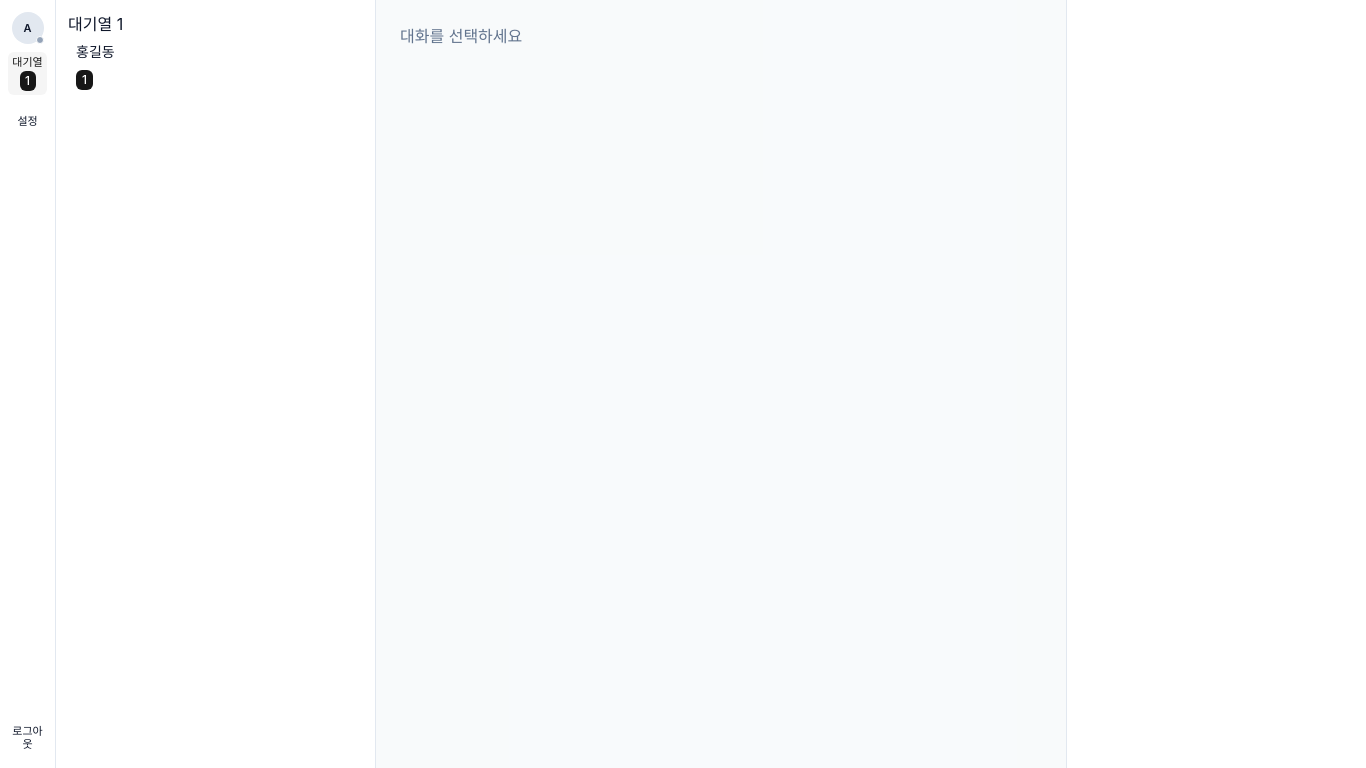
administrator creates a shared macro in catalog settings
The width and height of the screenshot is (1366, 768).
Click the button "설정": [28, 121] box [8, 103, 47, 139]
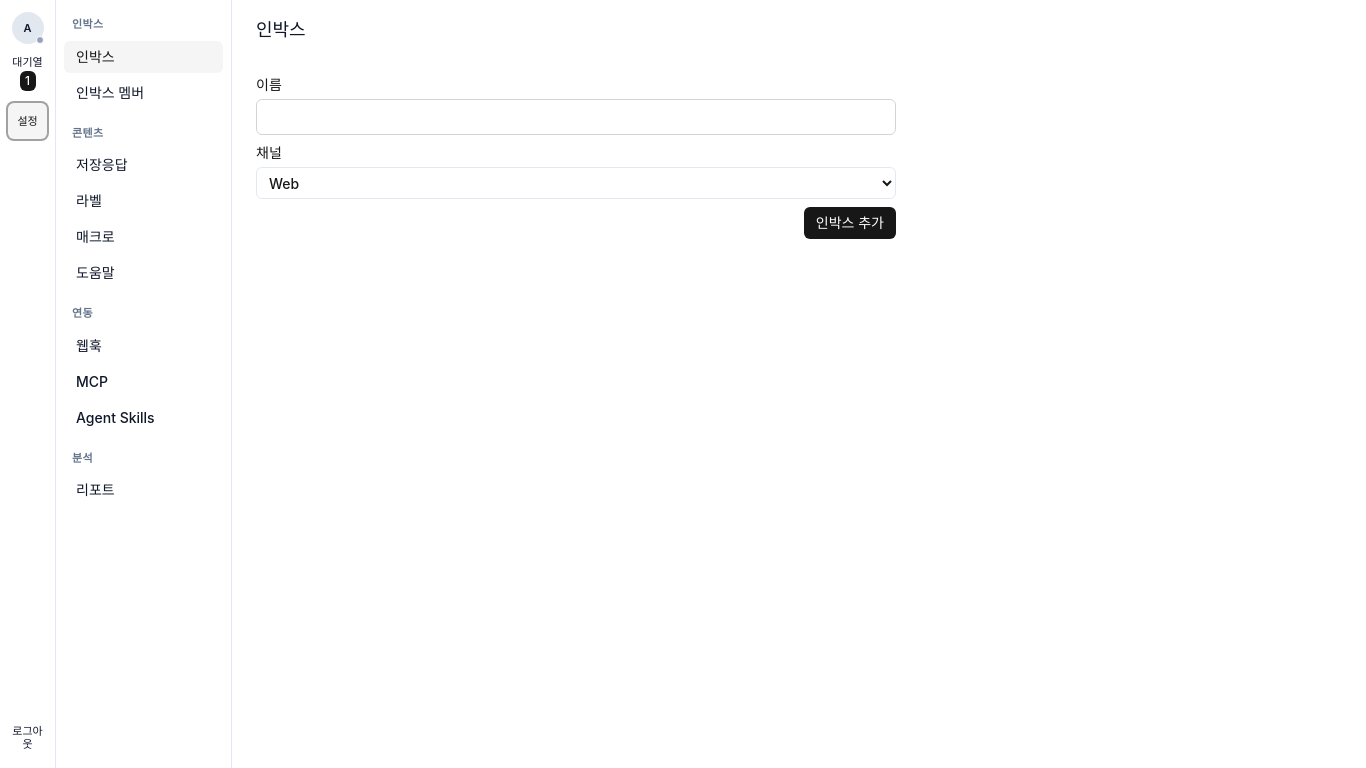
Click the button "매크로": [144, 237] box [64, 221, 223, 253]
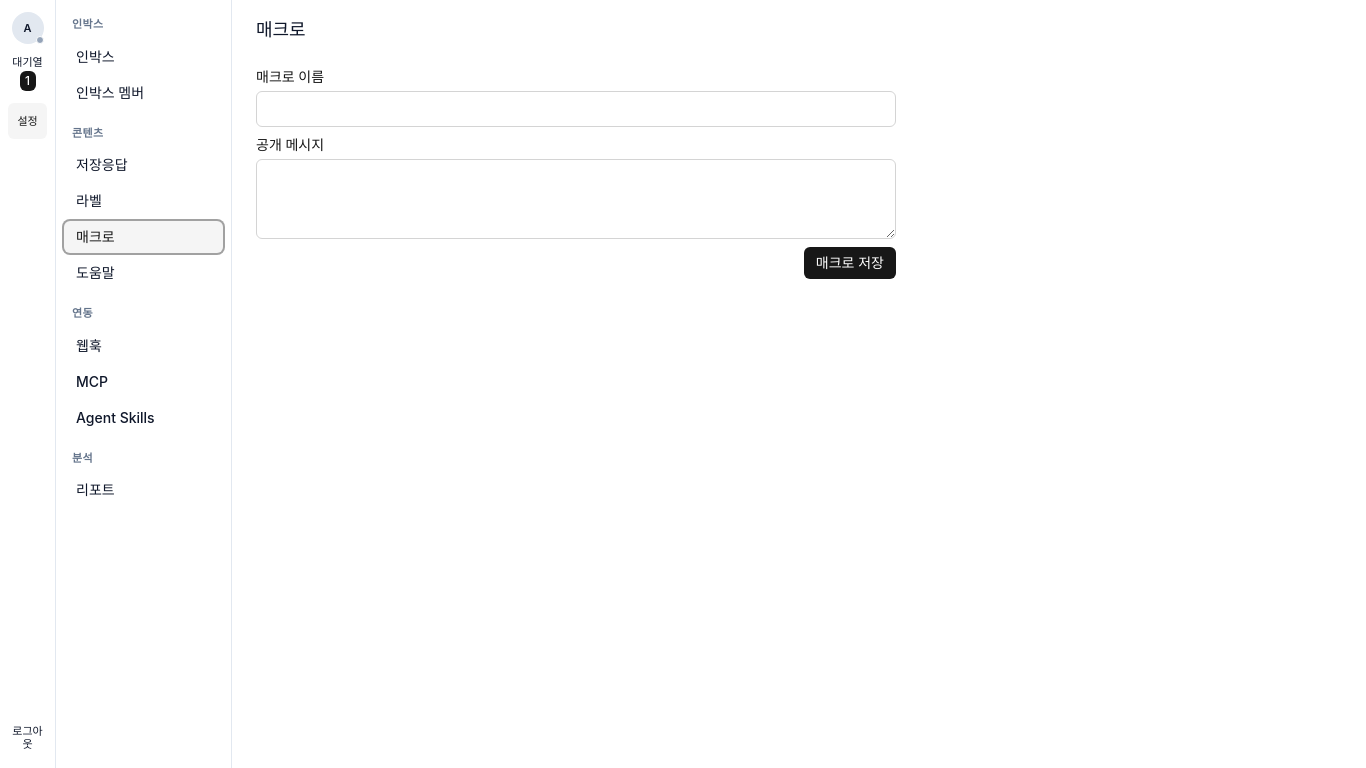
In the field labelled "매크로 이름": [576, 109] box [256, 91, 896, 127], type "환불 완료"
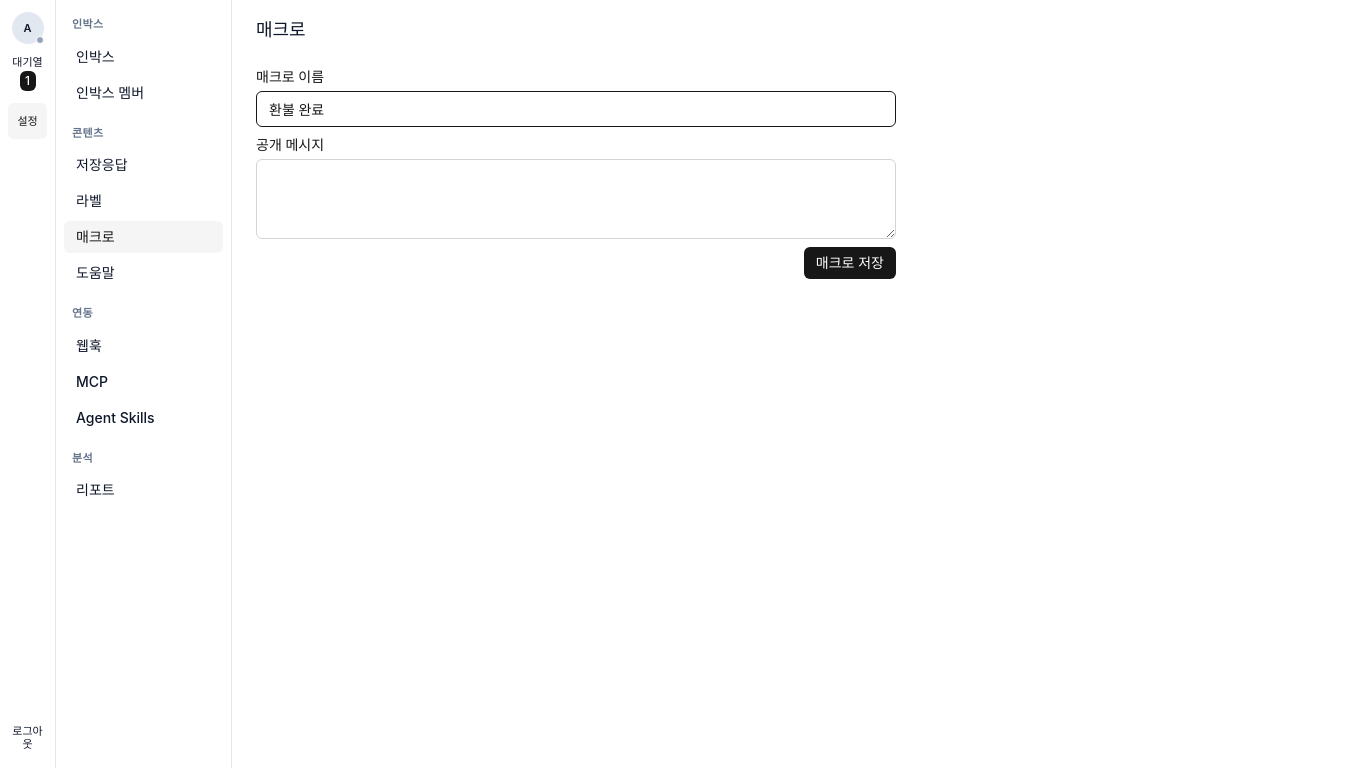
In the text box labelled "공개 메시지": [576, 199] box [256, 159, 896, 239], type "환불했습니다"
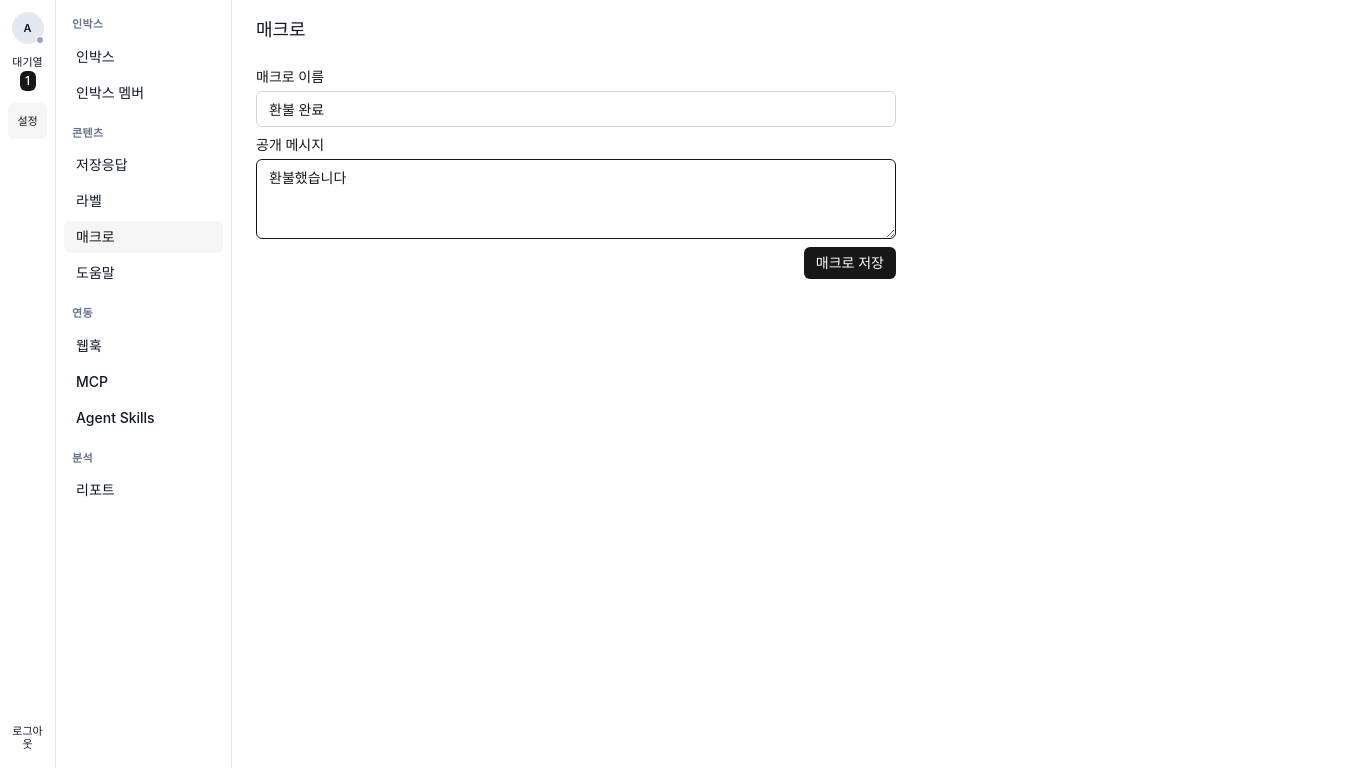
Click the button "매크로 저장": [850, 263] box [804, 247, 896, 279]
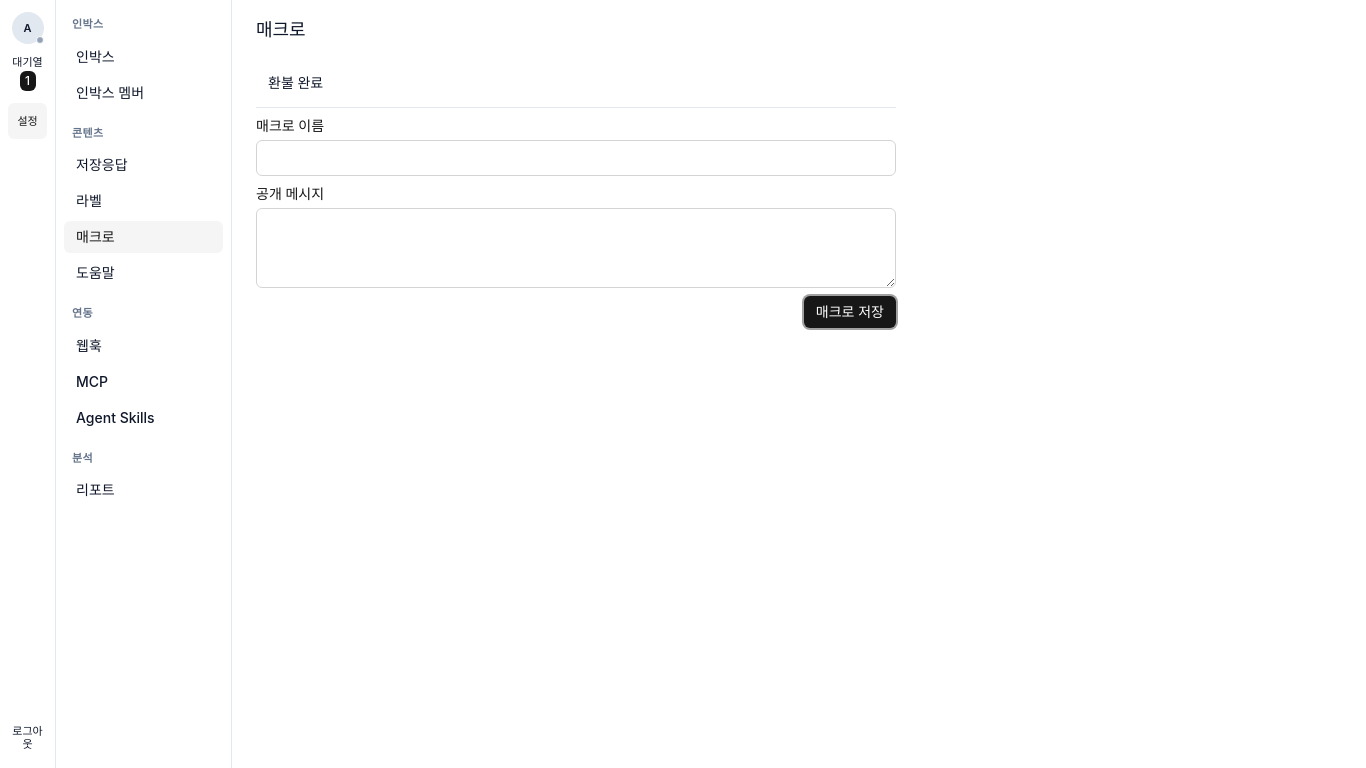
Result: the button "환불 완료" is shown at [256, 67, 896, 99]
Result: the element "매크로" shows "환불 완료" at [256, 67, 896, 99]
